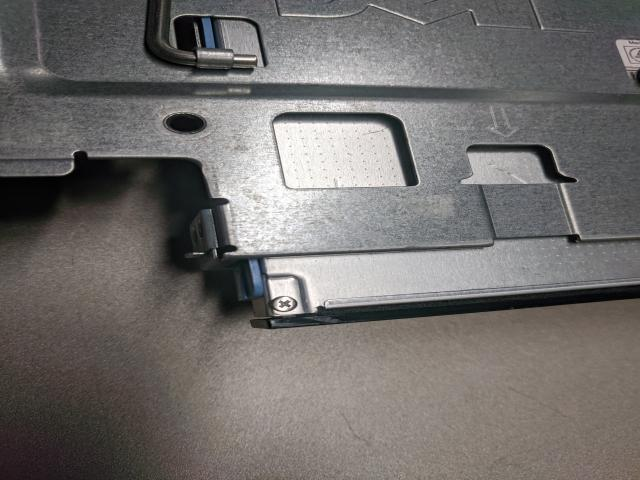CRS: (269, 294, 301, 312)
